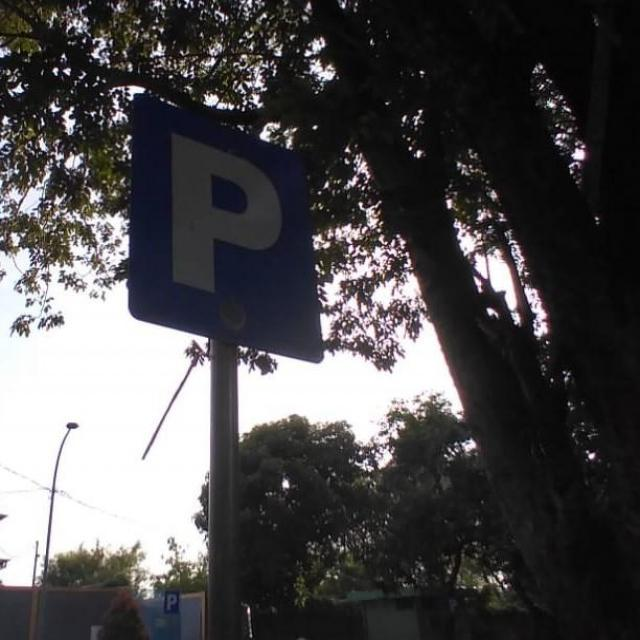traffic sign: (134, 93, 324, 362)
